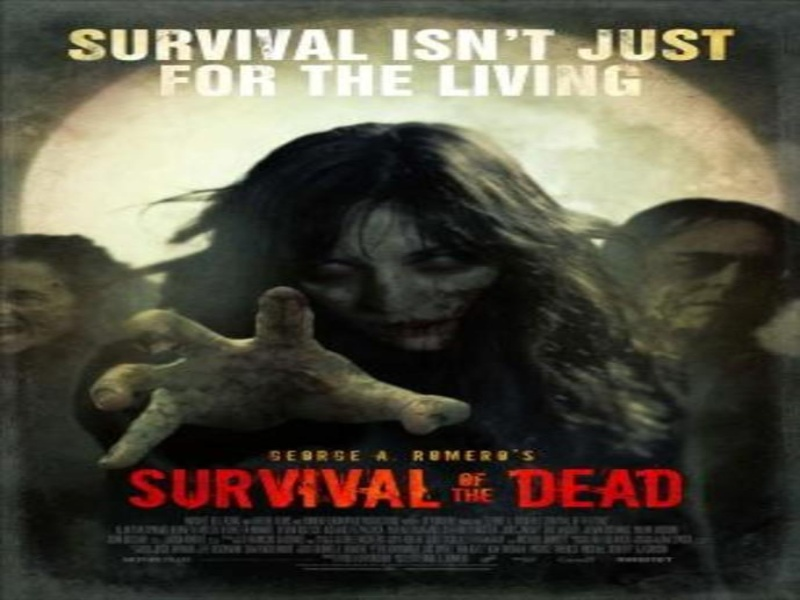person: (170, 122, 607, 464), (625, 191, 800, 472), (2, 237, 91, 395)
